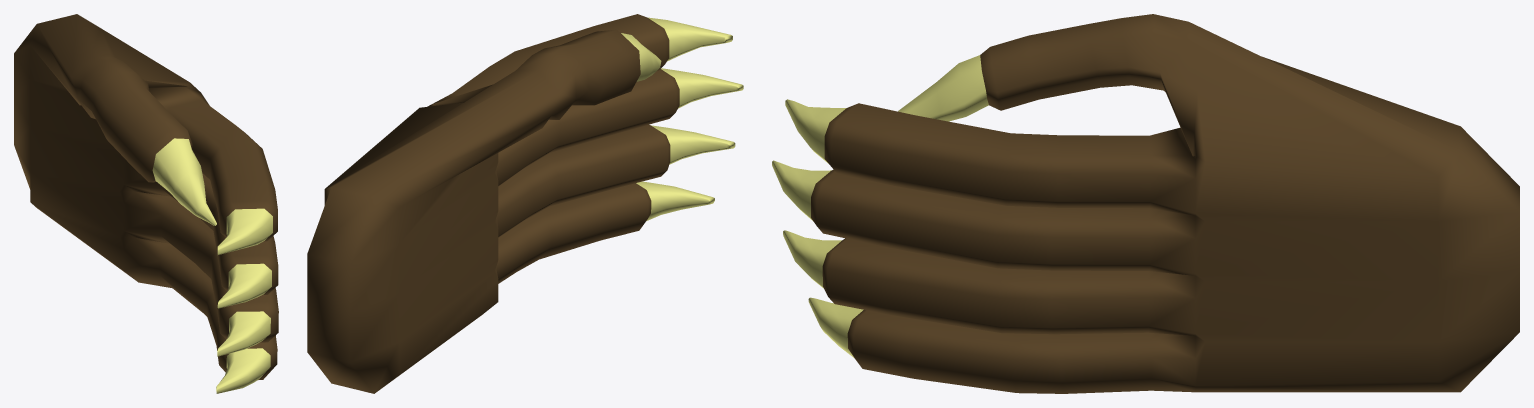
File: LeftClaw.fbx
3 views of the same model, side by side, from view 1: azimuth 30°, elevation 25°; view 2: azimuth 150°, elevation 25°; view 3: azimuth 270°, elevation 25° (orthographic). The views are drawn at different scales.
Parts seen in each view (by area): view 1: pCube1; view 2: pCube1; view 3: pCube1.
Boxes of the visible parts, x1=… form: pCube1: x1=14, y1=14, x2=278, y2=393; pCube1: x1=307, y1=14, x2=743, y2=393; pCube1: x1=772, y1=14, x2=1519, y2=393.
Size of the model in its own units: 0.6206 by 1.02 by 2.12.
